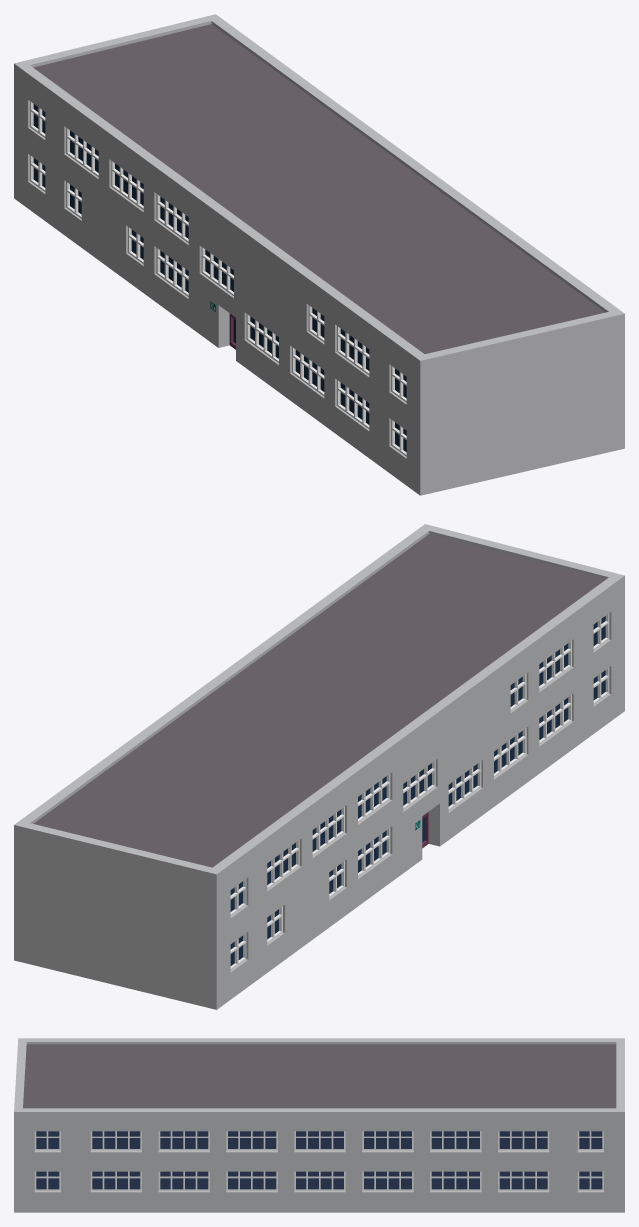
File: Building_K.fbx
3 renders of one model, top to bottom at view 1: azimuth 30°, elevation 25°; view 2: azimuth 150°, elevation 25°; view 3: azimuth 270°, elevation 25°, orthographic. The views are drawn at different scales.
Visible parts, largest first — view 1: Building_K; view 2: Building_K; view 3: Building_K.
Part boxes in pixels (left/top/right/bottom): Building_K: left=14, top=14, right=624, bottom=495; Building_K: left=14, top=524, right=624, bottom=1009; Building_K: left=14, top=1038, right=624, bottom=1212.
Bounding box in the file's own units: 11.5 × 7.33 × 40.31.
